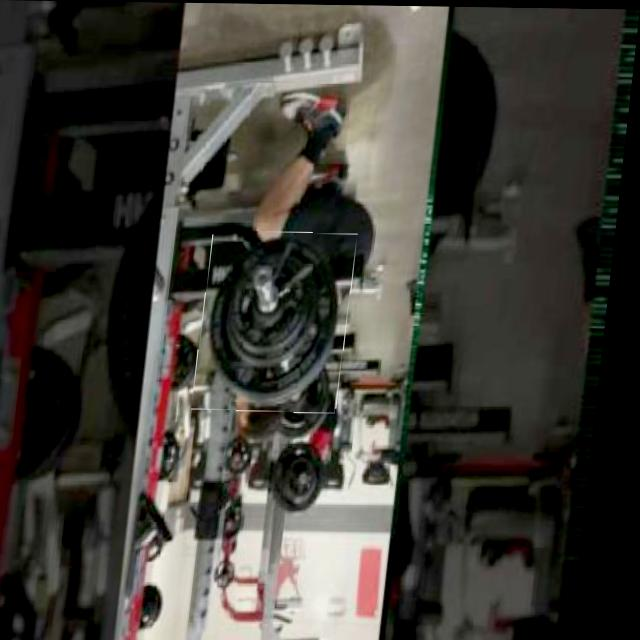barbell: (202, 231, 364, 413)
